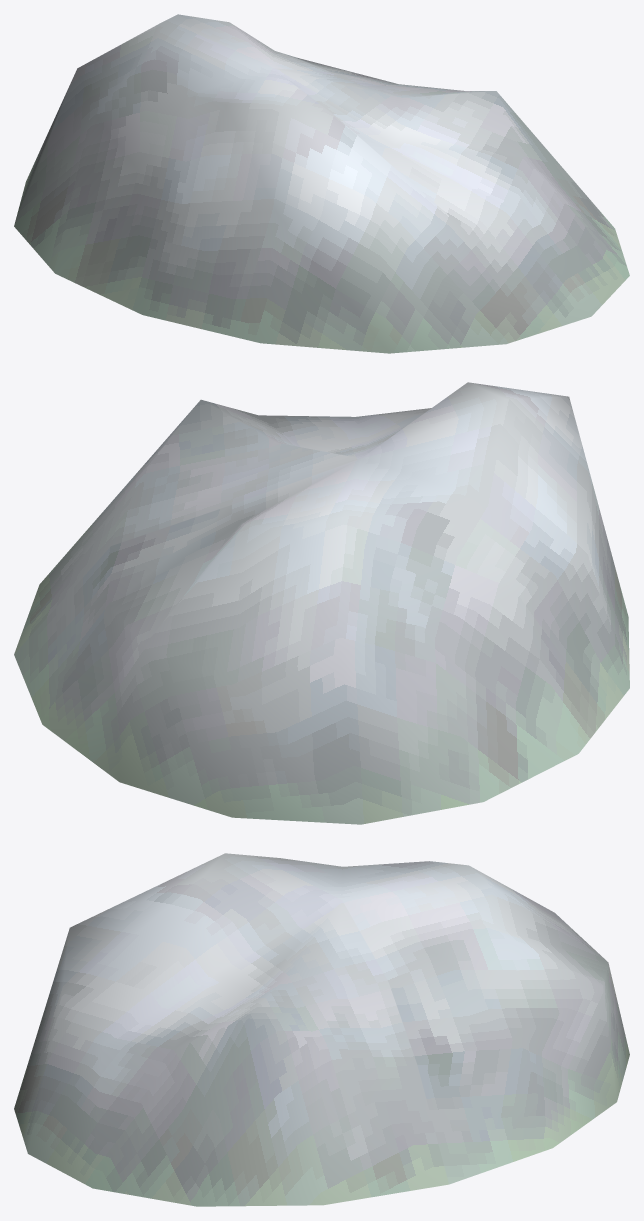
Rendered from TROLLHOLE02_STONEA08.fbx.
3 renders of one model, top to bottom at view 1: azimuth 30°, elevation 25°; view 2: azimuth 150°, elevation 25°; view 3: azimuth 270°, elevation 25°, orthographic. The views are drawn at different scales.
Visible parts, largest first — view 1: TROLLHOLE02_STONEA08; view 2: TROLLHOLE02_STONEA08; view 3: TROLLHOLE02_STONEA08.
Boxes of the visible parts, left/top/right/bottom form: TROLLHOLE02_STONEA08: left=14, top=14, right=629, bottom=353; TROLLHOLE02_STONEA08: left=14, top=382, right=629, bottom=824; TROLLHOLE02_STONEA08: left=14, top=853, right=629, bottom=1206.
Size of the model in its own units: 8994 by 3541 by 10256.
1 material, 1 textured.
